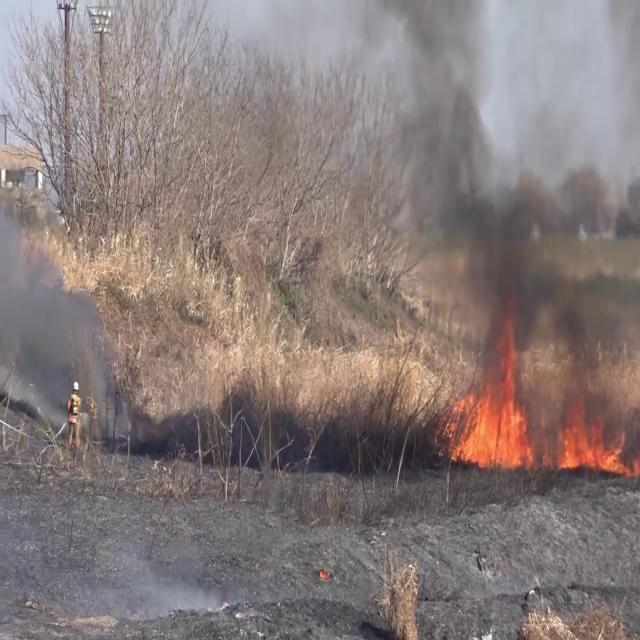Fire: (446, 361, 534, 472), (556, 413, 639, 479)
Smoke: (386, 4, 640, 404), (0, 214, 116, 418)
